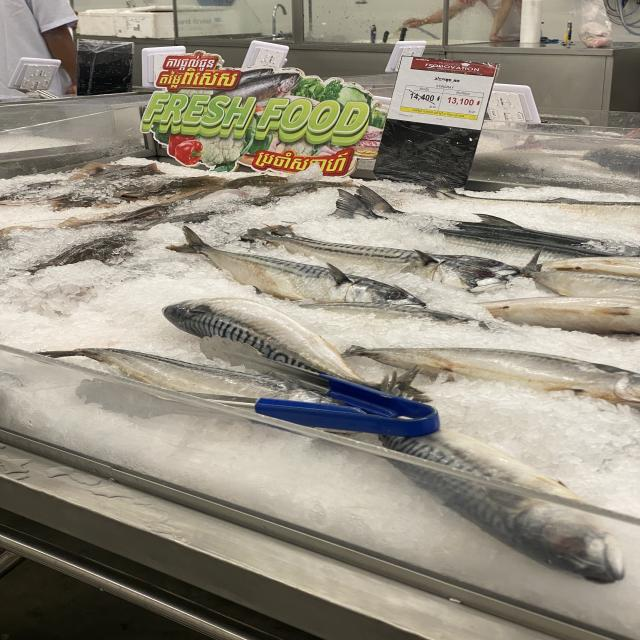Yolov11_80vkh: (246, 142, 368, 179), (150, 67, 247, 94), (160, 52, 226, 71)
